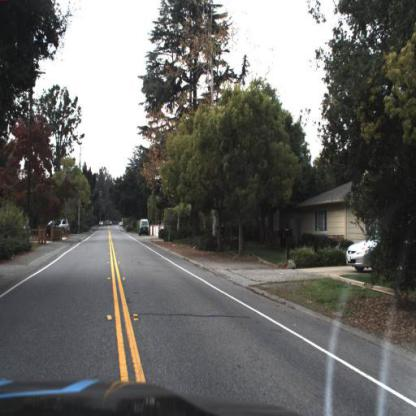car: (345, 230, 385, 272), (44, 210, 81, 240), (139, 217, 151, 238)
